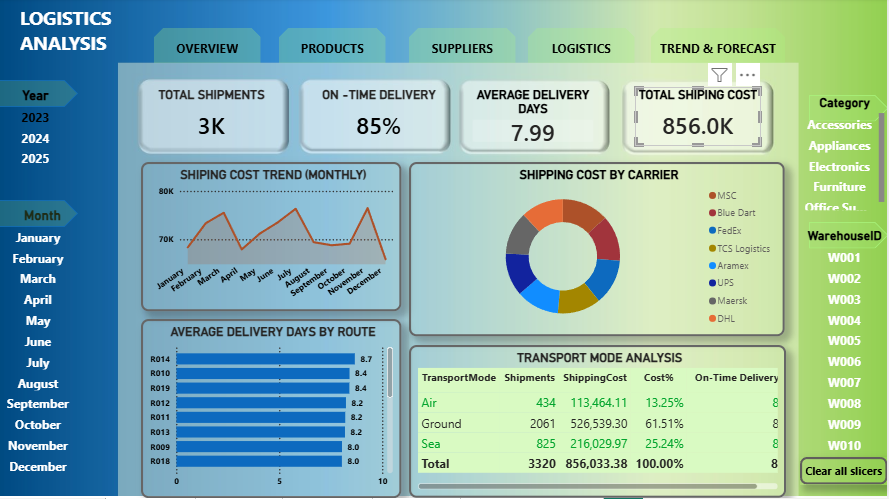

What the dashboard file says about the page in this screenshot:
{"tool":"powerbi","page":{"name":"Overview","canvas":[1280,720],"ordinal":0},"visuals":[{"type":"textbox","box":[0,0,708.5,54.7],"z":0},{"type":"actionButton","box":[234.1,42.7,153.8,51.3],"z":1000},{"type":"actionButton","box":[408.4,42.7,153.8,51.3],"z":2000},{"type":"actionButton","box":[591.3,42.7,153.8,51.3],"z":3000},{"type":"actionButton","box":[762.2,42.7,153.8,51.3],"z":4000},{"type":"actionButton","box":[916,42.7,193.1,51.3],"z":5000},{"type":"listSlicer","fields":{"Values":["DimDATE.Year"]},"box":[0,128.2,105.1,149.8],"z":6000},{"type":"shape","box":[0,118.1,113.8,38.9],"z":7000},{"type":"shape","box":[0,290.9,113.8,38.9],"z":8000},{"type":"listSlicer","fields":{"Values":["DimDATE.Month"]},"box":[0,301,125.3,398.9],"z":9000},{"type":"listSlicer","fields":{"Values":["DimProduct.Category"]},"box":[1127.5,118.1,152.6,193],"z":10000},{"type":"listSlicer","fields":{"Values":["DimWarehouse.WarehouseID"]},"box":[1127.5,301,152.6,339.8],"z":11000},{"type":"shape","box":[1134.7,290.9,138.2,38.9],"z":12000},{"type":"shape","box":[1134.7,108,138.2,38.9],"z":13000},{"type":"cardVisual","title":"TOTAL ORDERS","fields":{"Data":["FactSupplyChain.Total Orders"]},"box":[216,118.1,158.4,85],"z":14000},{"type":"actionButton","box":[1134.7,640.8,138.2,50.4],"z":15000},{"type":"cardVisual","title":"TOTAL REVENUE","fields":{"Data":["FactSupplyChain.Total Revenue"]},"box":[388.8,118.1,174.2,85],"z":16000},{"type":"cardVisual","title":"TOTAL PROFIT","fields":{"Data":["FactSupplyChain.Total Profit"]},"box":[581.8,118.1,162.7,85],"z":17000},{"type":"cardVisual","title":"PROFIT MARGIN","fields":{"Data":["FactSupplyChain.Profit Margin %"]},"box":[761.8,118.1,168.5,85],"z":18000},{"type":"cardVisual","title":"ON-TIME DELIVERY ","fields":{"Data":["FactSupplyChain.On-Time Delivery %"]},"box":[936,118.1,172.8,85],"z":19000},{"type":"lineChart","title":"Revenue by Month","fields":{"Y":["Sum(FactSupplyChain.Revenue)"],"Category":["DimDATE.Month"]},"box":[216,231.8,529.9,218.9],"z":20000},{"type":"donutChart","title":"Revenue by Category","fields":{"Y":["Sum(FactSupplyChain.Revenue)"],"Category":["DimProduct.Category"]},"box":[761.8,231.8,347,218.9],"z":21000},{"type":"columnChart","title":"Revenue by Warehouse","fields":{"Y":["Sum(FactSupplyChain.Revenue)"],"Category":["DimWarehouse.WarehouseName"]},"box":[216,470.9,460.8,229],"z":22000},{"type":"tableEx","title":"TOP FIVE PRODUCTS","fields":{"Values":["DimProduct.ProductName","DimProduct.Category","DimProduct.Product Revenue","FactSupplyChain.Profit Margin %"]},"box":[688.3,470.9,420.5,229],"z":23000},{"type":"textbox","box":[14.4,43.2,165.6,51.8],"z":24000}]}

Visuals, with their boxes in screenshot pixels (x1, y1, x2, y2), scaled from the page's 1280x720 canvas onto the 889x499 screenshot:
textbox: select_region(0, 0, 492, 38)
actionButton: select_region(163, 30, 269, 65)
actionButton: select_region(284, 30, 390, 65)
actionButton: select_region(411, 30, 517, 65)
actionButton: select_region(529, 30, 636, 65)
actionButton: select_region(636, 30, 770, 65)
listSlicer - DimDATE.Year: select_region(0, 89, 73, 193)
shape: select_region(0, 82, 79, 109)
shape: select_region(0, 202, 79, 229)
listSlicer - DimDATE.Month: select_region(0, 209, 87, 485)
listSlicer - DimProduct.Category: select_region(783, 82, 888, 216)
listSlicer - DimWarehouse.WarehouseID: select_region(783, 209, 888, 444)
shape: select_region(788, 202, 884, 229)
shape: select_region(788, 75, 884, 102)
"TOTAL ORDERS" cardVisual: select_region(150, 82, 260, 141)
actionButton: select_region(788, 444, 884, 479)
"TOTAL REVENUE" cardVisual: select_region(270, 82, 391, 141)
"TOTAL PROFIT" cardVisual: select_region(404, 82, 517, 141)
"PROFIT MARGIN" cardVisual: select_region(529, 82, 646, 141)
"ON-TIME DELIVERY " cardVisual: select_region(650, 82, 770, 141)
"Revenue by Month" lineChart: select_region(150, 161, 518, 312)
"Revenue by Category" donutChart: select_region(529, 161, 770, 312)
"Revenue by Warehouse" columnChart: select_region(150, 326, 470, 485)
"TOP FIVE PRODUCTS" tableEx: select_region(478, 326, 770, 485)
textbox: select_region(10, 30, 125, 66)
